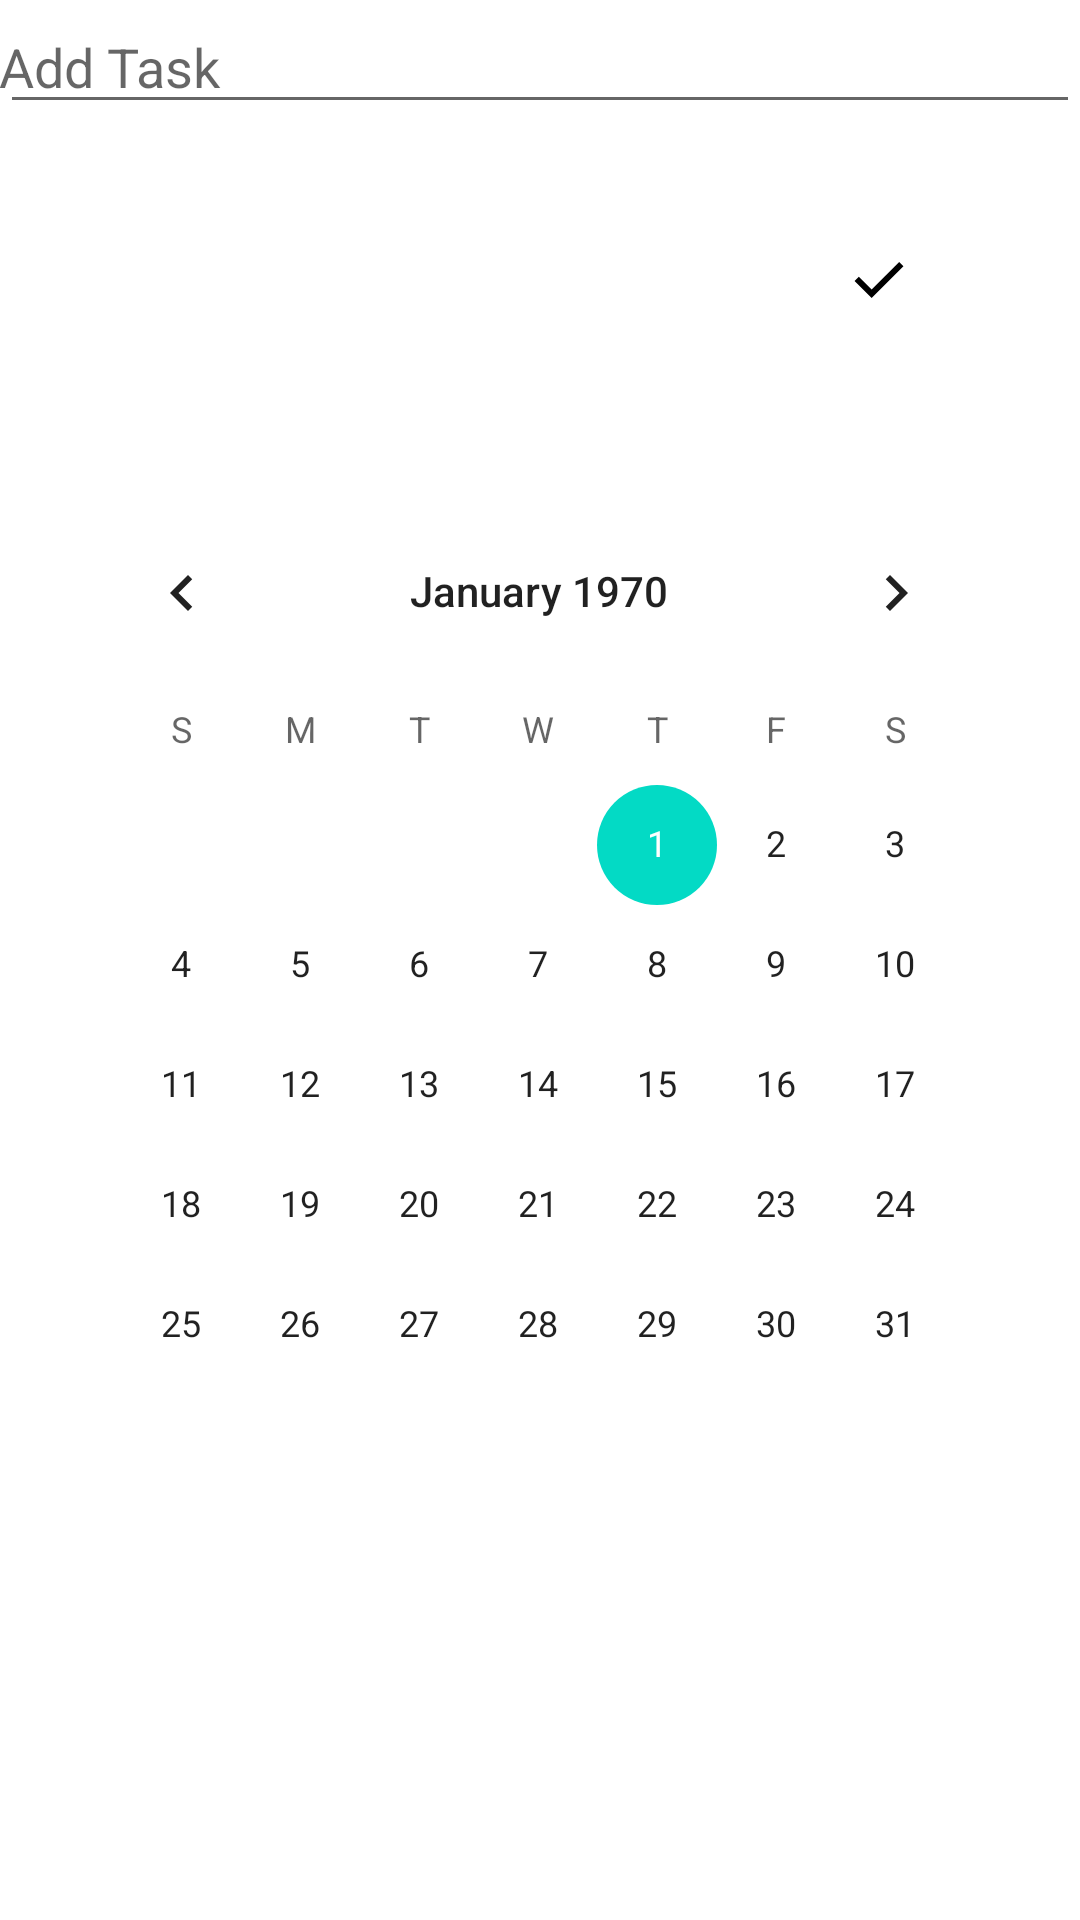

Where to tap for icons on this 1080px×1920px app screen, as (x=x, y=y):
done: (x=879, y=280)
